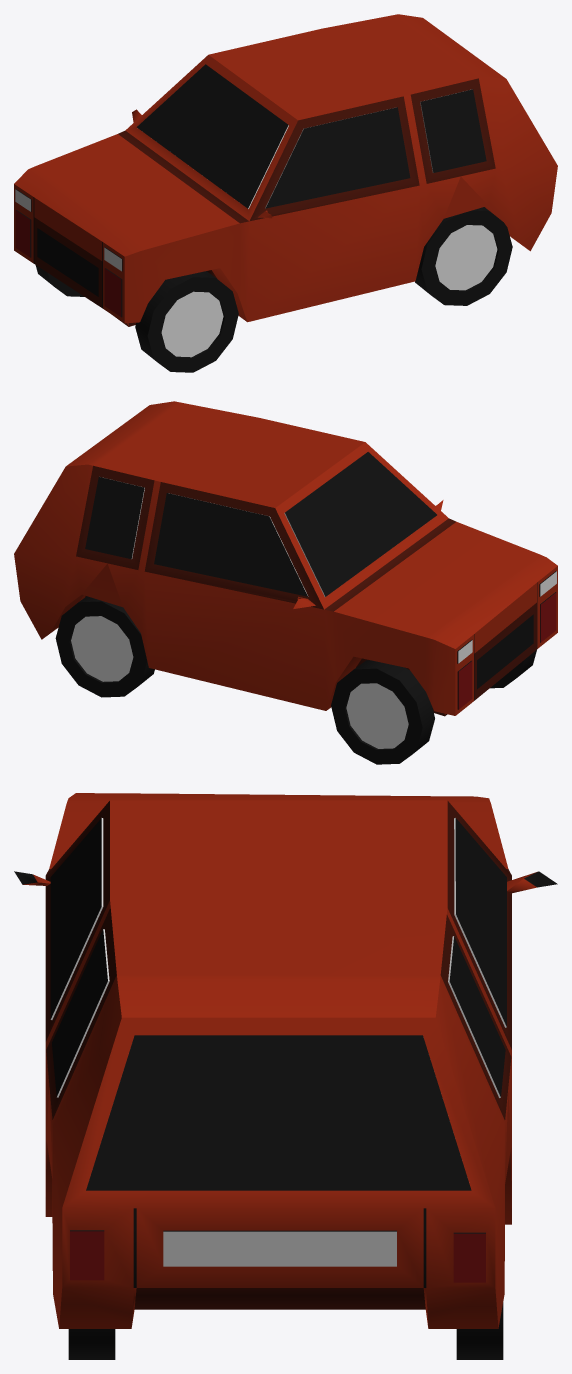
Rendered from Basecar_M_v1_Carrie.FBX.
3 renders of one model, top to bottom at view 1: azimuth 30°, elevation 25°; view 2: azimuth 150°, elevation 25°; view 3: azimuth 270°, elevation 25°, orthographic. The views are drawn at different scales.
Parts seen in each view (by area): view 1: basecar_base, basecar_wheel; view 2: basecar_base, basecar_wheel; view 3: basecar_base, basecar_wheel.
Part boxes in pixels (bbox=[...]): basecar_base: bbox=[14, 14, 557, 326]; basecar_wheel: bbox=[35, 207, 512, 372]; basecar_base: bbox=[14, 401, 557, 716]; basecar_wheel: bbox=[55, 596, 536, 764]; basecar_base: bbox=[14, 793, 557, 1328]; basecar_wheel: bbox=[68, 1302, 503, 1359].
Size of the model in its own units: 637 by 303 by 367.
